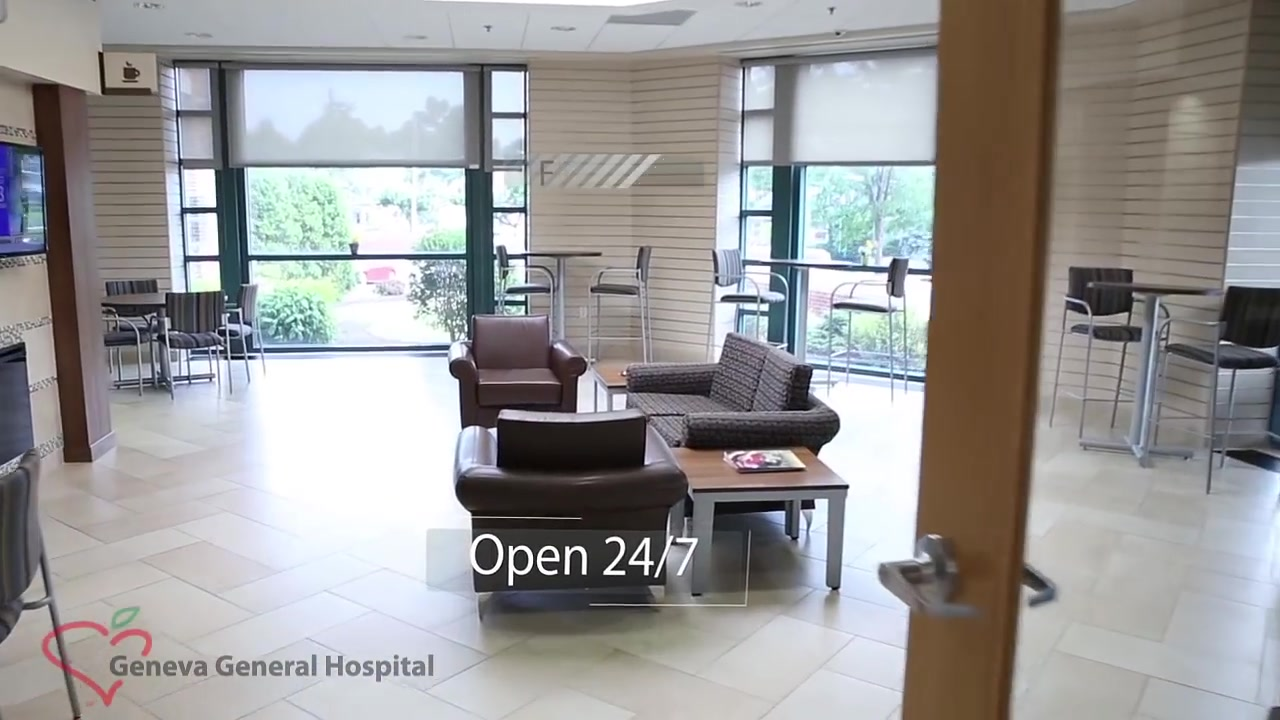TV: (1, 141, 50, 260)
chair: (1150, 283, 1280, 498), (1, 449, 86, 720), (1049, 265, 1139, 438), (822, 255, 923, 401), (702, 247, 800, 363), (584, 240, 661, 366), (100, 277, 168, 398), (164, 290, 233, 400), (491, 239, 562, 337), (216, 282, 267, 384)
door_handle: (875, 539, 981, 626), (1019, 557, 1059, 610)
sofa: (454, 402, 695, 604), (618, 332, 842, 512), (446, 313, 589, 430)
table: (673, 445, 853, 597), (1080, 280, 1224, 468), (97, 291, 219, 392), (519, 245, 607, 343)
